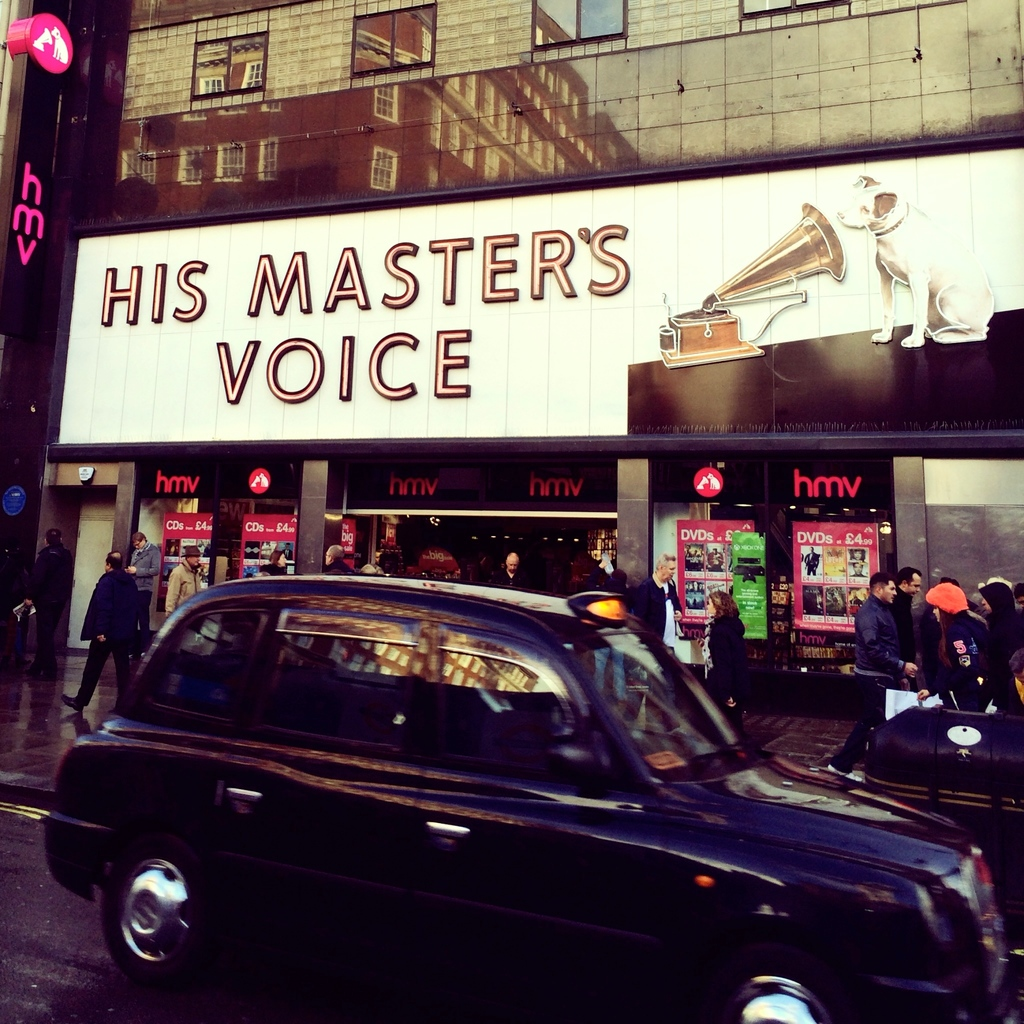Car: (20, 567, 1015, 1023)
